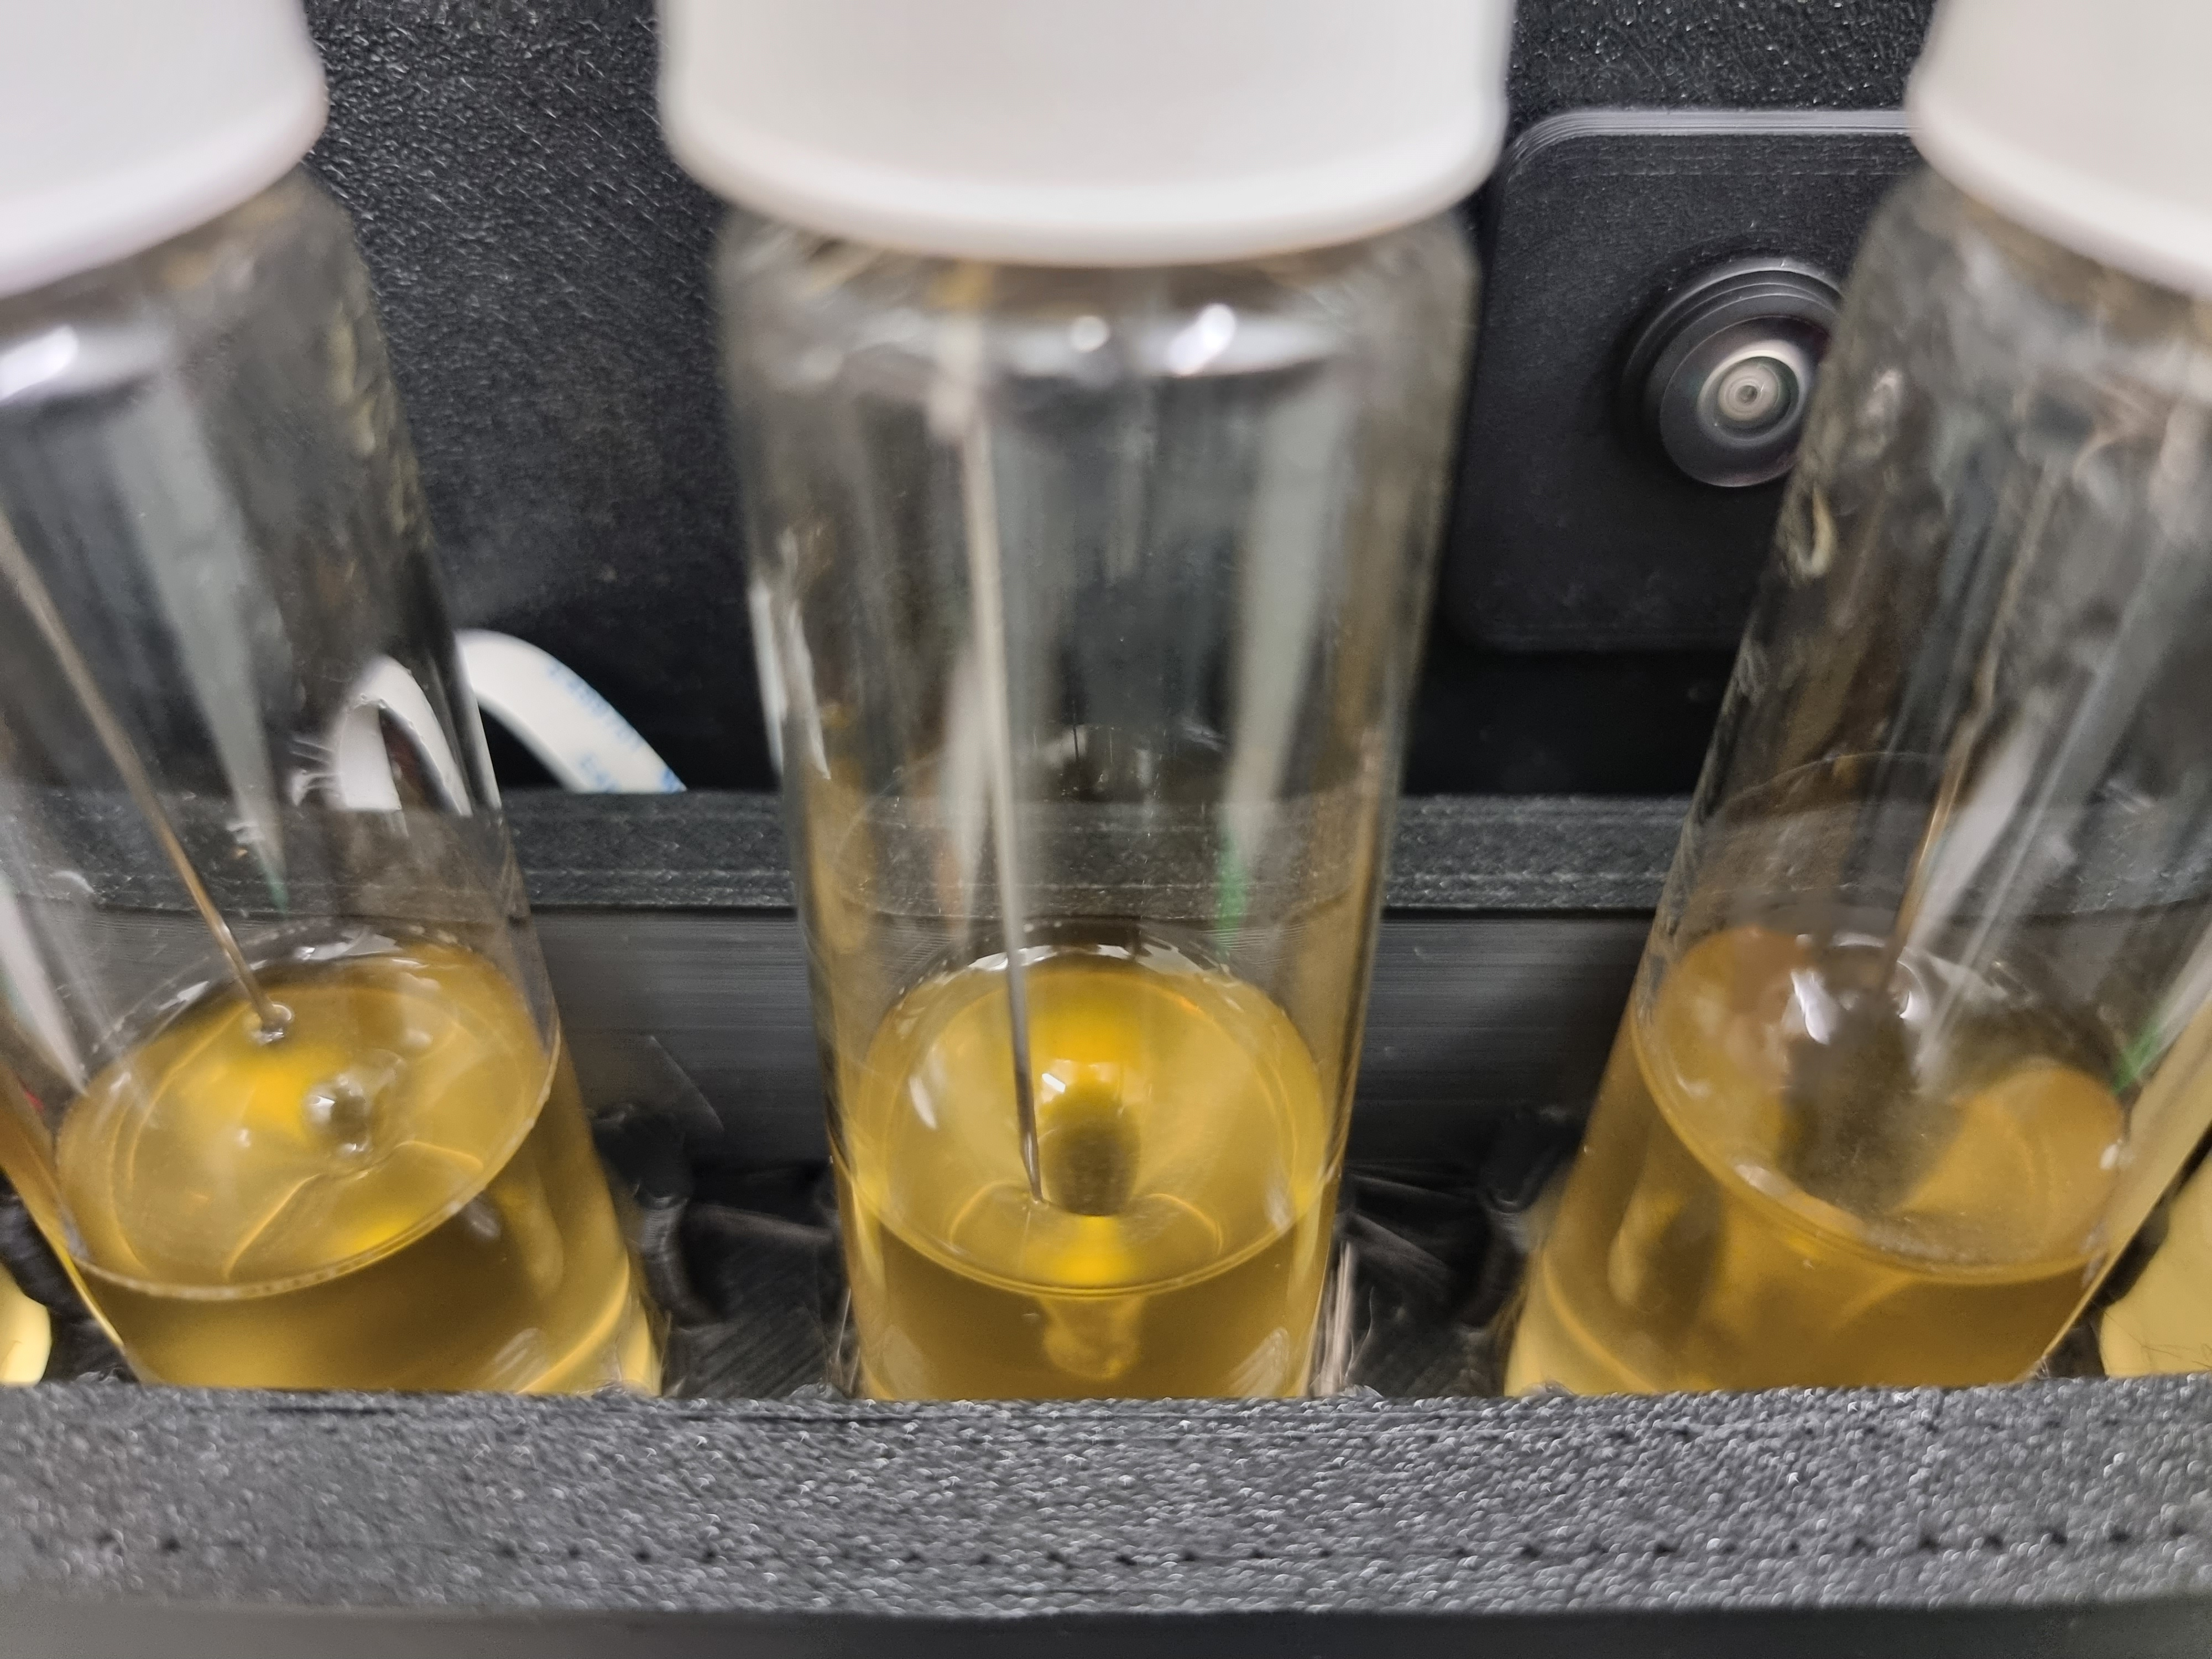vial: (639, 0, 1527, 1399), (1527, 0, 2212, 1392), (7, 3, 664, 1391)
